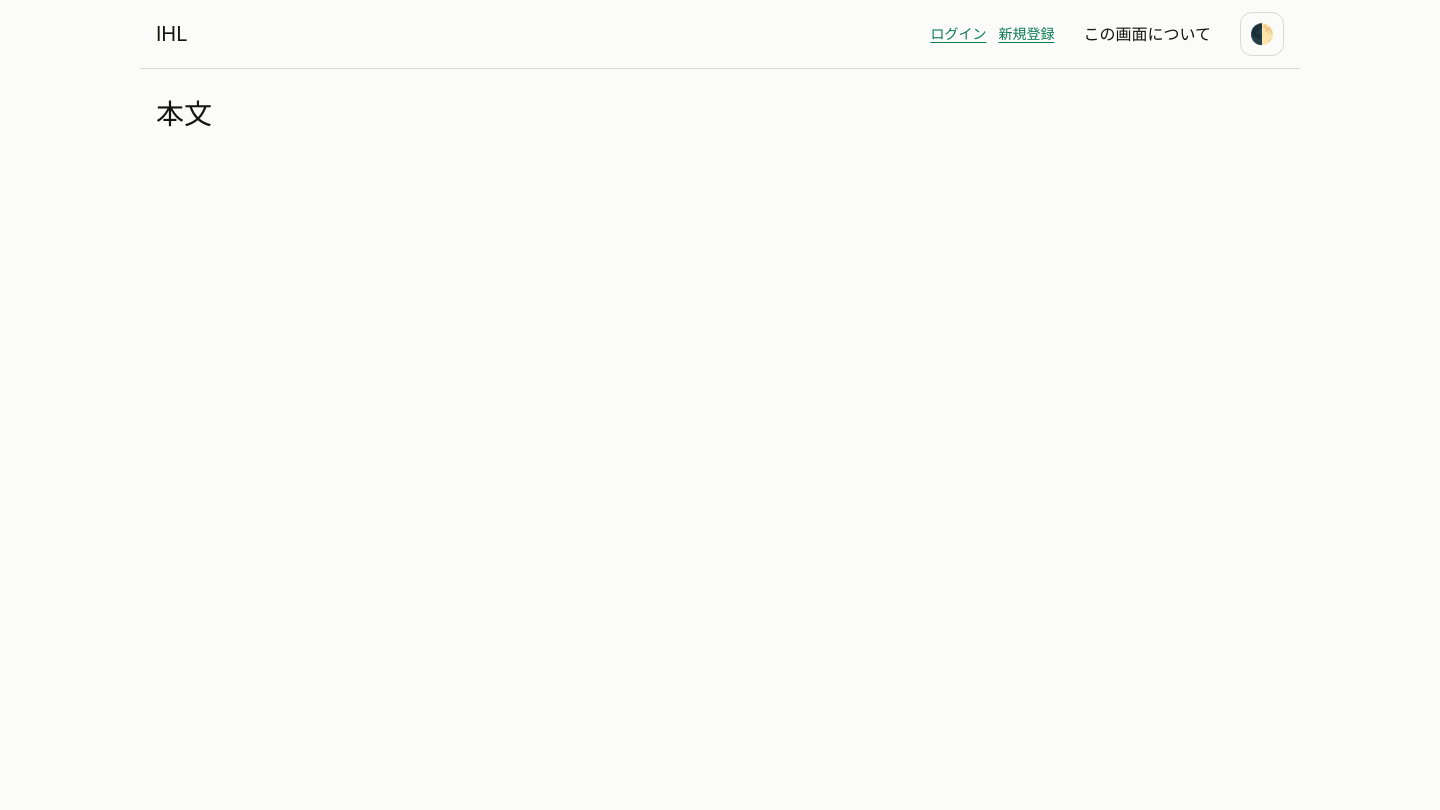
g79-bundleA: PageInfoPanel(page_infoパネル) › how_to/faq を持つ page_info はその内容を描画する
The width and height of the screenshot is (1440, 810).
What coordinates should you click on to do the following:
click the button "この画面について"
I would click on:
 (1147, 34)
Its box is [1066,12,1228,56].
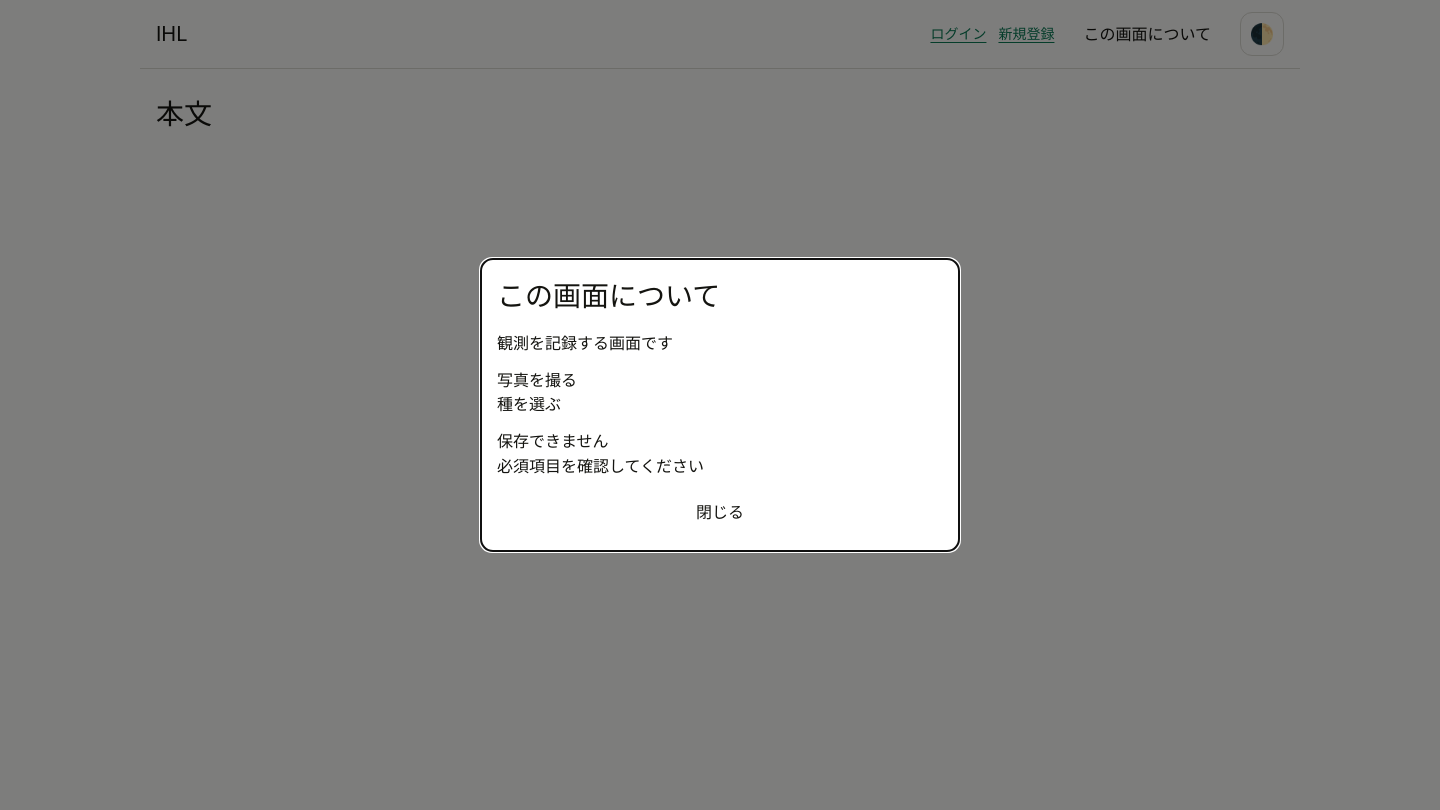
Expected: the list item "写真を撮る" is shown, [497,370,577,390]
Expected: the list item "種を選ぶ" is shown, [497,394,561,414]
Expected: the text "保存できません" is shown, [497,431,608,451]
